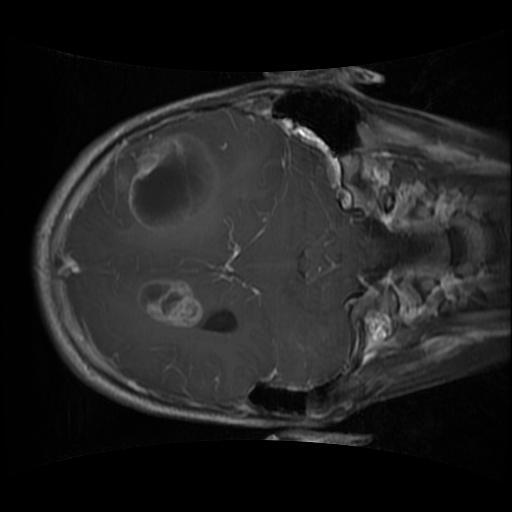glioma: (111, 132, 223, 238)
